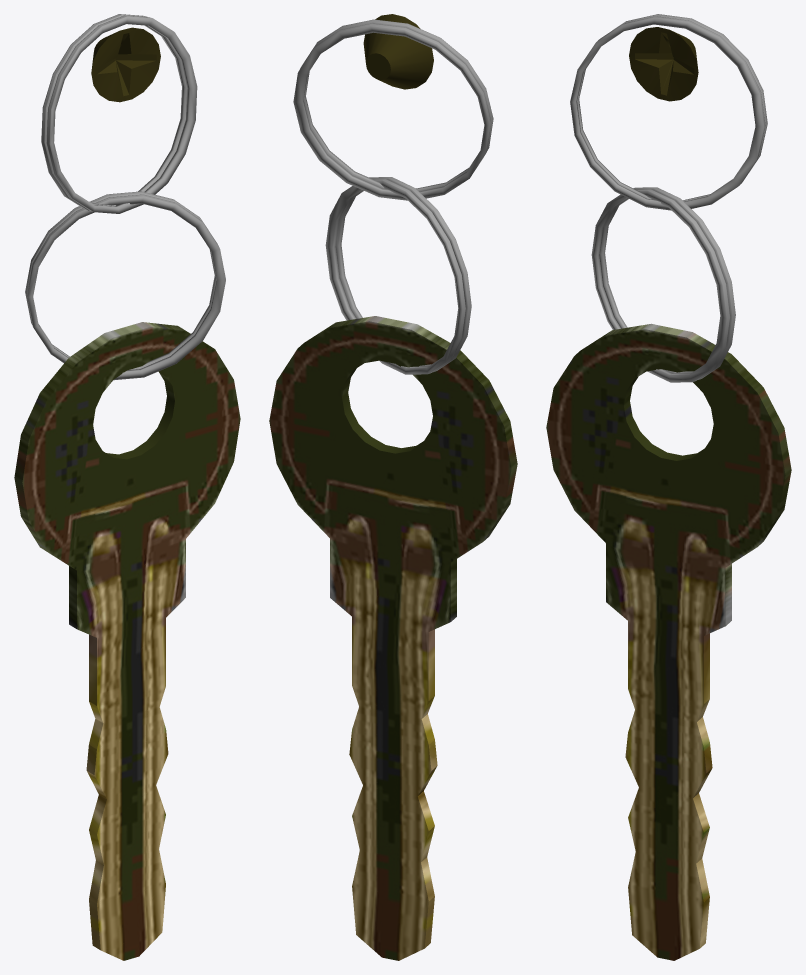
Rendered from key.FBX.
3 renders of one model, left to right at view 1: azimuth 30°, elevation 25°; view 2: azimuth 150°, elevation 25°; view 3: azimuth 330°, elevation 25°, orthographic.
Visible parts, largest first — view 1: Cylinder03; view 2: Cylinder03; view 3: Cylinder03.
Part boxes in pixels (left/top/right/bottom): Cylinder03: left=14, top=14, right=240, bottom=960; Cylinder03: left=269, top=14, right=517, bottom=960; Cylinder03: left=546, top=14, right=791, bottom=960.
Bounding box in the file's own units: 190 × 735 × 58.74.
Materials: 3 (1 with a texture image).
